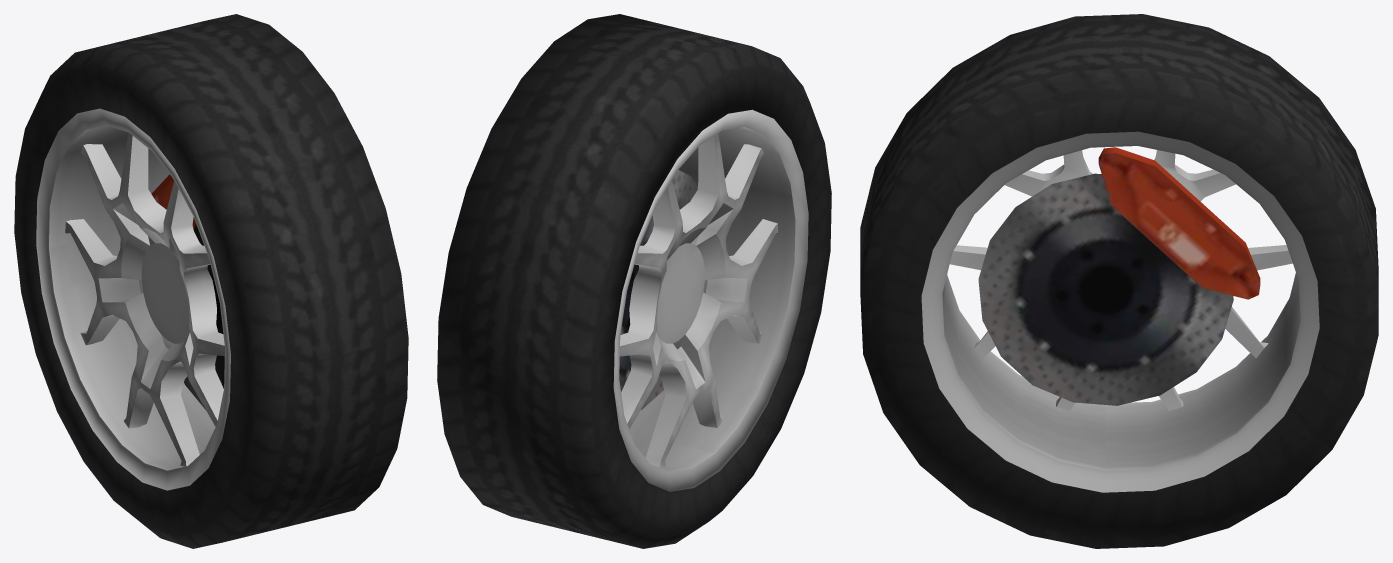
File: Wheel1.fbx
The picture shows the model from 3 angles, left to right: view 1: azimuth 30°, elevation 25°; view 2: azimuth 150°, elevation 25°; view 3: azimuth 270°, elevation 25°; orthographic projection.
Parts seen in each view (by area): view 1: Tire, Metal, Disc; view 2: Tire, Metal, Disc; view 3: Tire, Metal, Disc.
Part boxes in pixels (x1,y1,x2,y2): Tire: (14, 14, 408, 548); Metal: (36, 108, 230, 490); Disc: (151, 174, 224, 409); Tire: (437, 14, 831, 548); Metal: (613, 109, 808, 491); Disc: (619, 169, 697, 409); Tire: (860, 14, 1378, 548); Metal: (921, 131, 1319, 492); Disc: (978, 147, 1260, 405).
Bounding box in the file's own units: 26.16 × 79.24 × 79.24.
